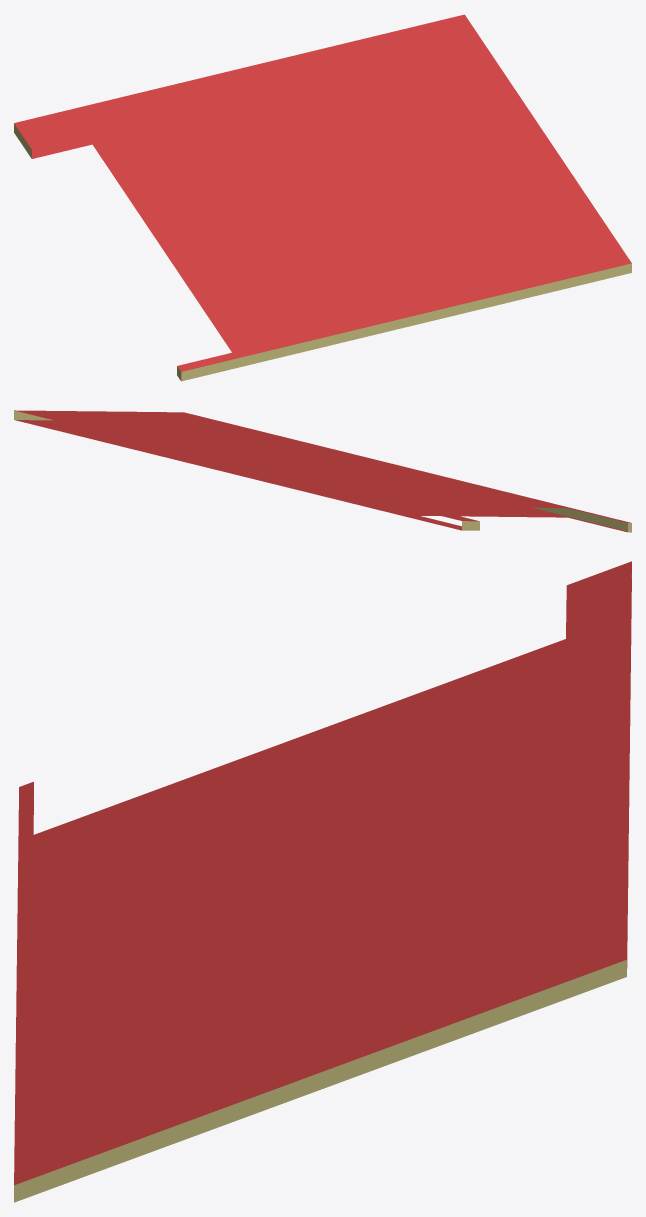
3 views of the same model, one above another, from view 1: azimuth 30°, elevation 25°; view 2: azimuth 150°, elevation 25°; view 3: azimuth 270°, elevation 25° (orthographic). The views are drawn at different scales.
Bounding box in the file's own units: 4.96 × 3.24 × 1.41.
